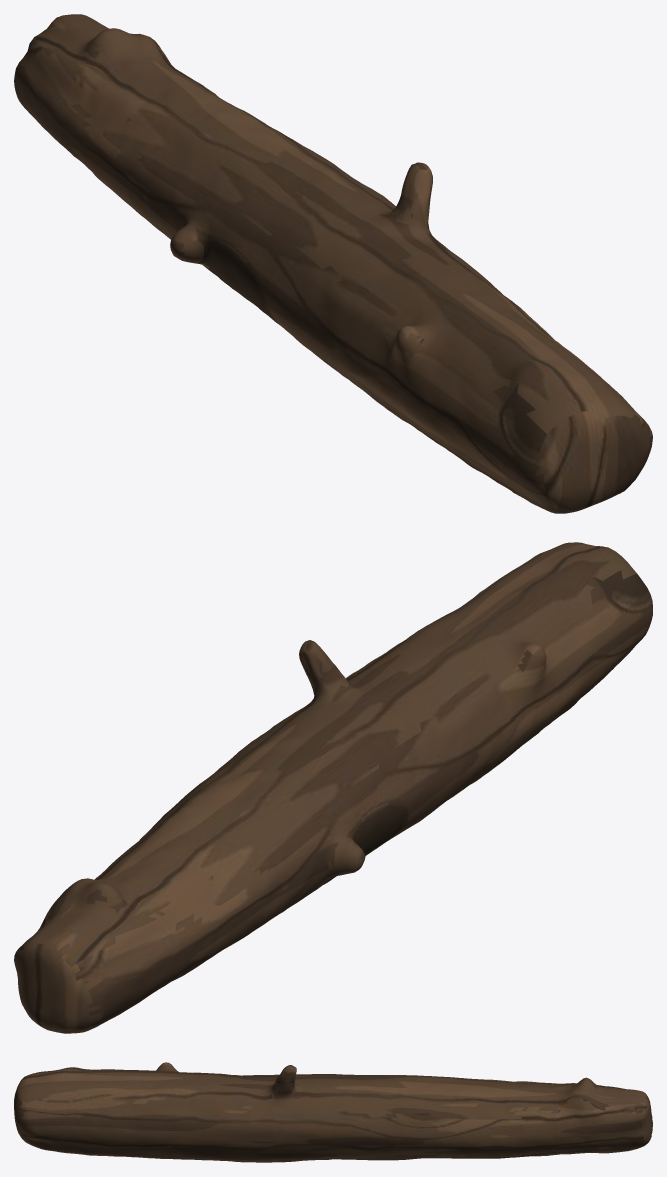
The model's file is Fallen Tree FBX 22.fbx.
3 views of the same model, one above another, from view 1: azimuth 30°, elevation 25°; view 2: azimuth 150°, elevation 25°; view 3: azimuth 270°, elevation 25° (orthographic). The views are drawn at different scales.
Visible parts, largest first — view 1: Group30275_1; view 2: Group30275_1; view 3: Group30275_1.
Boxes of the visible parts, x1,y1,x2,y2 form: Group30275_1: (14,14,652,513); Group30275_1: (14,542,652,1033); Group30275_1: (14,1062,652,1162).
Size of the model in its own units: 15.19 by 15.14 by 81.2.
1 material, 1 textured.
